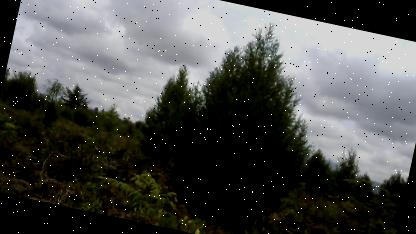tree: (155, 2, 338, 234), (123, 53, 213, 170)
